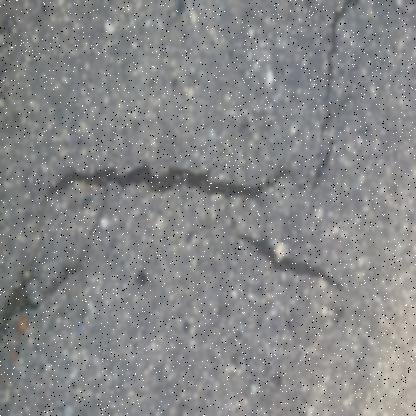Cracks: (47, 0, 370, 205), (0, 254, 89, 370), (235, 221, 345, 296)
